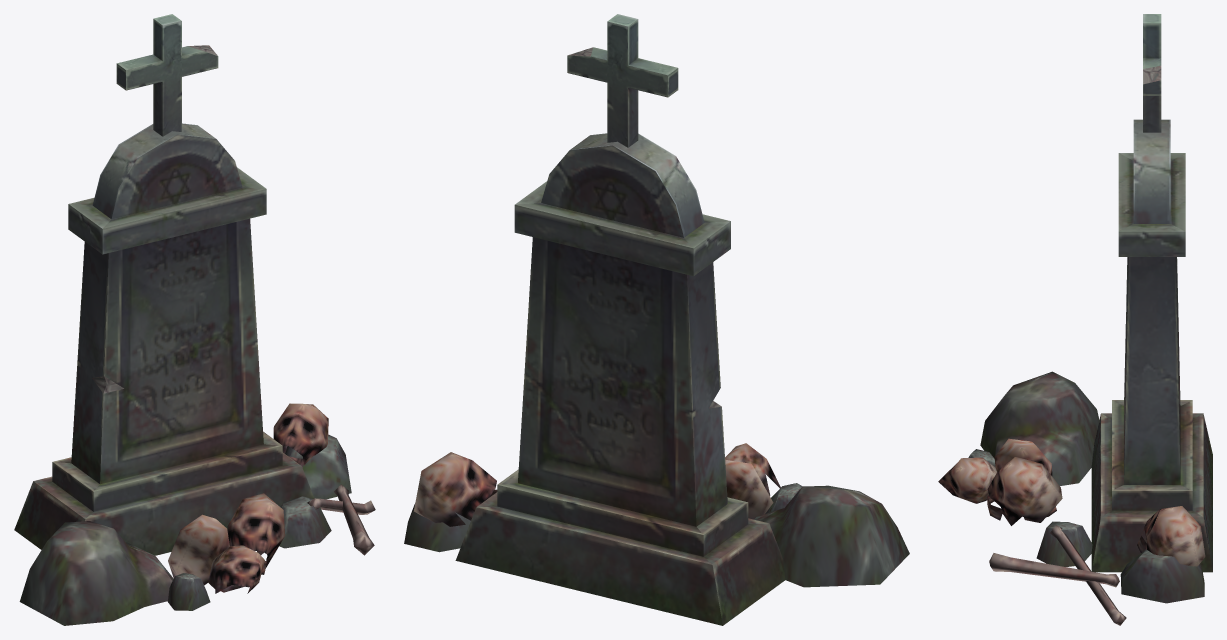
Rendered from npc_mubei.FBX.
3 renders of one model, left to right at view 1: azimuth 30°, elevation 25°; view 2: azimuth 150°, elevation 25°; view 3: azimuth 270°, elevation 25°, orthographic. The views are drawn at different scales.
Visible parts, largest first — view 1: model; view 2: model; view 3: model.
Boxes of the visible parts, x1,y1,x2,y2 form: model: (14,14,375,625); model: (404,14,909,625); model: (938,14,1212,625).
Size of the model in its own units: 152 by 201 by 96.44.
